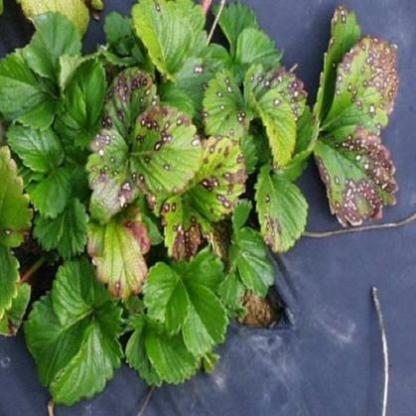Strawberry_Leaf_Spot: (312, 124, 399, 228), (318, 36, 400, 136), (128, 104, 204, 194), (311, 5, 362, 125), (184, 136, 250, 224), (83, 128, 141, 224), (132, 0, 197, 82), (254, 164, 309, 254), (100, 66, 160, 147), (246, 89, 297, 168), (244, 61, 308, 121), (202, 66, 252, 140), (0, 144, 35, 248), (166, 56, 222, 114), (160, 194, 202, 264), (192, 210, 235, 272), (0, 282, 33, 337)
